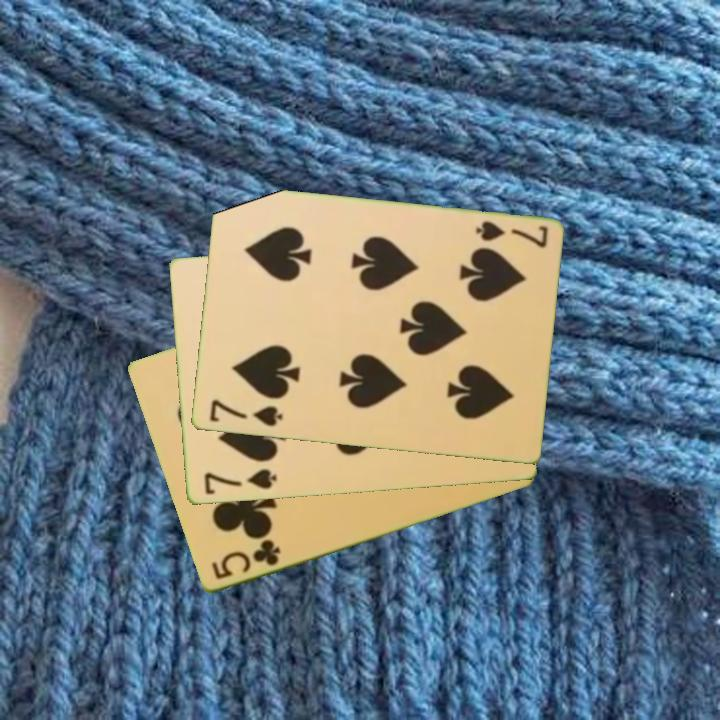5c: (207, 536, 284, 583)
7s: (206, 396, 285, 430), (200, 465, 279, 498), (471, 218, 550, 251)
